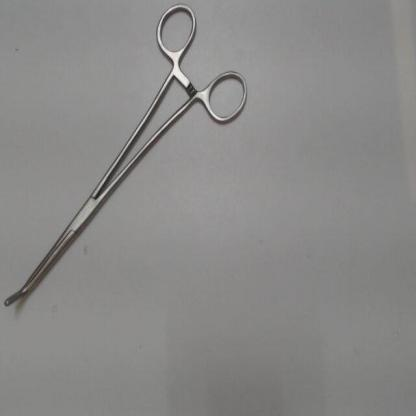Lahey Forceps: (1, 2, 250, 315)
